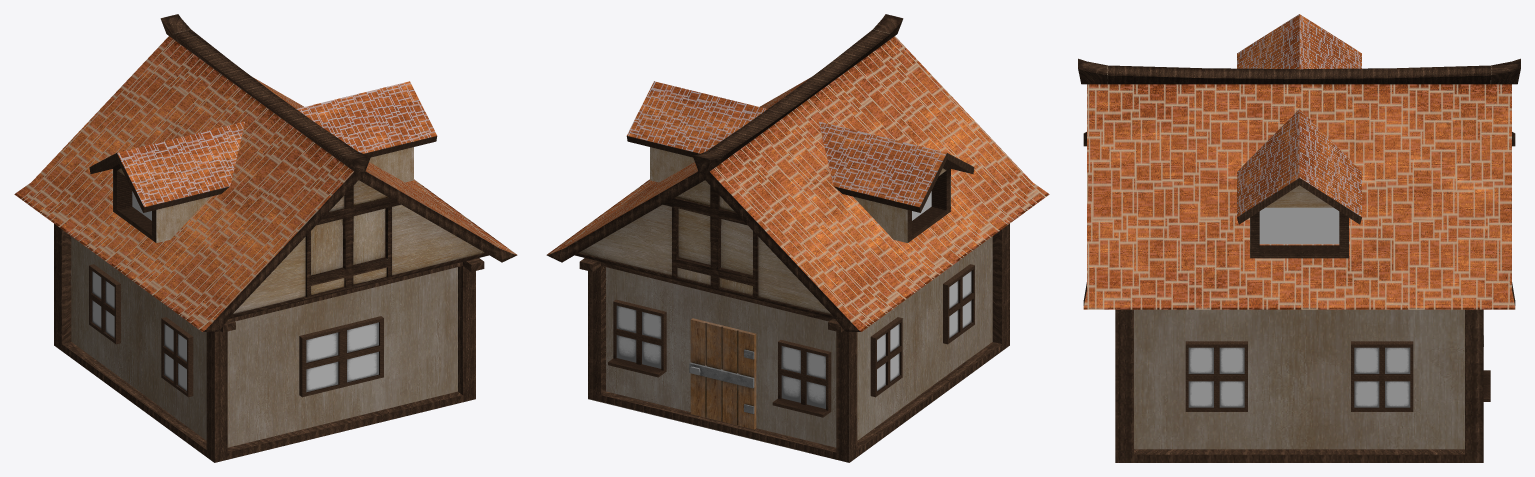
The model's file is House_4.fbx.
The picture shows the model from 3 angles, left to right: view 1: azimuth 30°, elevation 25°; view 2: azimuth 150°, elevation 25°; view 3: azimuth 270°, elevation 25°; orthographic projection. The views are drawn at different scales.
Visible parts, largest first — view 1: roof7, block9, roof_window4, roof_window3, window47, window51, window52; view 2: roof7, block9, roof_window4, roof_window3, door9, window49, window50, window52, window51; view 3: roof7, block9, roof_window3, window48, window46, roof_window4.
Boxes of the visible parts, bbox=[...] form: roof7: bbox=[14, 14, 517, 331]; block9: bbox=[54, 224, 484, 462]; roof_window4: bbox=[89, 121, 244, 242]; roof_window3: bbox=[296, 81, 437, 182]; window47: bbox=[299, 316, 383, 397]; window51: bbox=[161, 317, 193, 397]; window52: bbox=[89, 264, 120, 344]; roof7: bbox=[546, 14, 1049, 331]; block9: bbox=[579, 224, 1009, 462]; roof_window4: bbox=[819, 121, 974, 242]; roof_window3: bbox=[626, 81, 767, 182]; door9: bbox=[689, 318, 756, 429]; window49: bbox=[772, 340, 831, 417]; window50: bbox=[608, 299, 666, 377]; window52: bbox=[870, 317, 902, 397]; window51: bbox=[943, 264, 974, 344]; roof7: bbox=[1078, 58, 1520, 309]; block9: bbox=[1115, 309, 1483, 462]; roof_window3: bbox=[1237, 109, 1361, 258]; window48: bbox=[1351, 341, 1413, 411]; window46: bbox=[1185, 341, 1247, 411]; roof_window4: bbox=[1237, 14, 1361, 69].
Bounding box in the file's own units: 9.28 × 8.02 × 9.84.
